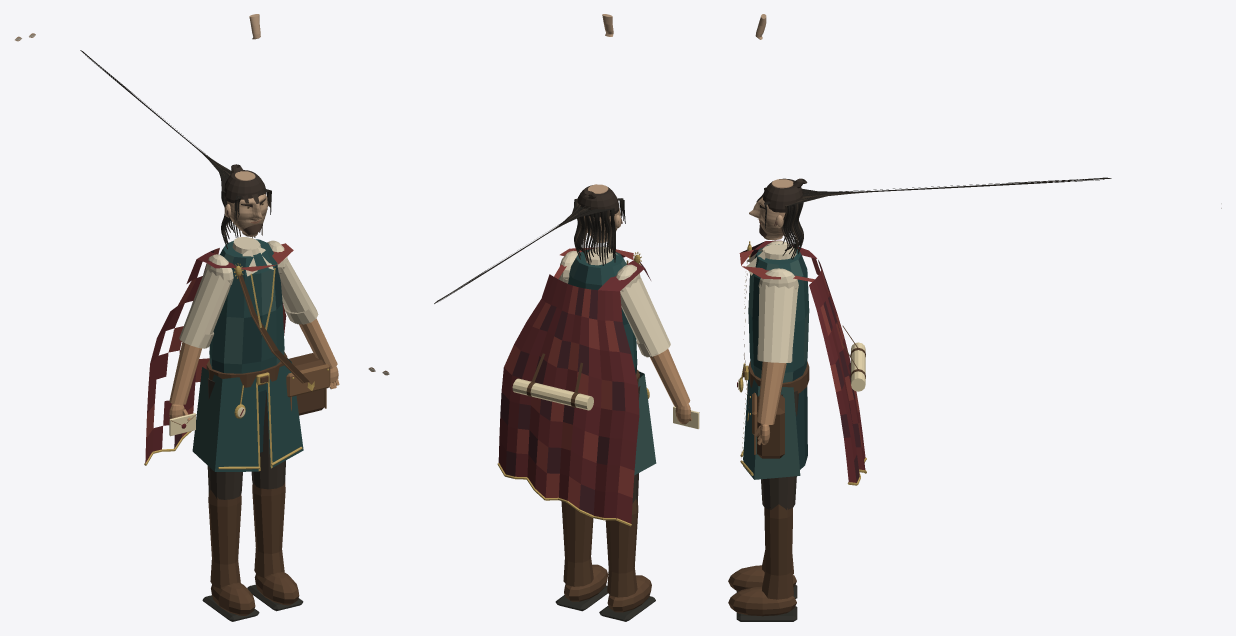
Rendered from courier.glb.
3 views of the same model, side by side, from view 1: azimuth 30°, elevation 25°; view 2: azimuth 150°, elevation 25°; view 3: azimuth 270°, elevation 25° (orthographic).
Visible parts, largest first — view 1: Waistcoat, Split_coat_R, Cloak_folds, Boot_shaft_R, Boot_shaft_L, Split_coat_L, Linen_sleeve_R, Forearm_R, Trouser_thigh_L, Linen_sleeve_L, Face, Boot_toe_R (+9 smaller); view 2: Cloak_folds, Boot_shaft_R, Boot_shaft_L, Linen_sleeve_R, Waistcoat, Split_coat_R, Map_roll, Forearm_R, Boot_toe_L, Boot_toe_R, Hair_target_top, Boot_sole_R (+1 smaller); view 3: Cloak_folds, Waistcoat, Linen_sleeve_L, Boot_shaft_L, Split_coat_L, Boot_toe_L, Forearm_L, Trouser_thigh_L, Messenger_satchel, Face, Hair_target_top, Back_coat (+1 smaller).
Part boxes in pixels (x1,y1,x2,y2): Waistcoat: (209, 239, 284, 392); Split_coat_R: (192, 367, 258, 471); Cloak_folds: (145, 243, 293, 463); Boot_shaft_R: (208, 490, 241, 588); Boot_shaft_L: (252, 481, 285, 577); Split_coat_L: (266, 358, 303, 468); Linen_sleeve_R: (179, 267, 231, 348); Forearm_R: (169, 342, 201, 404); Trouser_thigh_L: (251, 392, 285, 489); Linen_sleeve_L: (279, 258, 318, 324); Face: (227, 171, 267, 236); Boot_toe_R: (211, 582, 255, 615); Cloak_folds: (498, 247, 650, 523); Boot_shaft_R: (605, 499, 638, 597); Boot_shaft_L: (561, 501, 593, 586); Linen_sleeve_R: (620, 276, 670, 357); Waistcoat: (568, 249, 637, 374); Split_coat_R: (634, 371, 656, 475); Map_roll: (512, 378, 593, 410); Forearm_R: (650, 348, 690, 407); Boot_toe_L: (564, 564, 608, 601); Boot_toe_R: (607, 575, 651, 612); Hair_target_top: (577, 185, 619, 217); Boot_sole_R: (599, 596, 655, 621); Cloak_folds: (739, 240, 865, 482); Waistcoat: (748, 244, 809, 382); Linen_sleeve_L: (758, 284, 798, 362); Boot_shaft_L: (762, 504, 793, 599); Split_coat_L: (743, 372, 800, 479); Boot_toe_L: (728, 586, 796, 616); Forearm_L: (757, 361, 786, 424); Trouser_thigh_L: (761, 390, 798, 509); Messenger_satchel: (757, 394, 784, 458); Face: (749, 179, 793, 240); Hair_target_top: (763, 178, 802, 212); Back_coat: (795, 386, 807, 469).
Bounding box in the file's own units: 0.7395 × 2.41 × 1.83.
